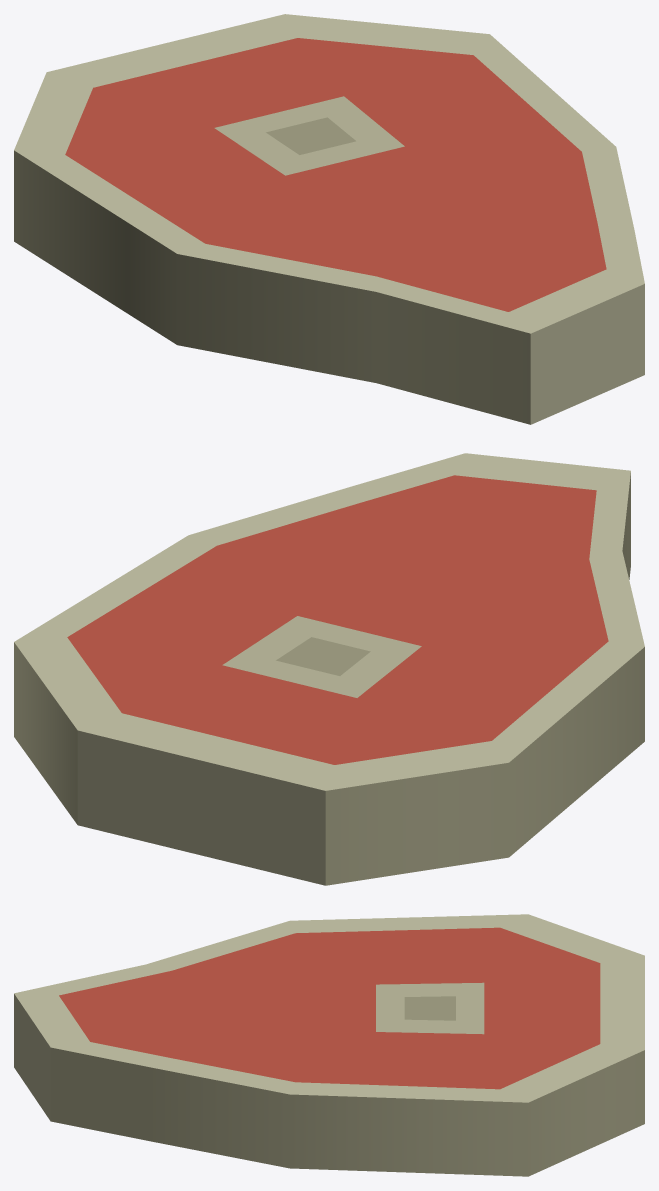
The model's file is SM_Prop_Steak_01.fbx.
3 renders of one model, top to bottom at view 1: azimuth 30°, elevation 25°; view 2: azimuth 150°, elevation 25°; view 3: azimuth 270°, elevation 25°, orthographic. The views are drawn at different scales.
Parts seen in each view (by area): view 1: SM_Prop_Steak_01; view 2: SM_Prop_Steak_01; view 3: SM_Prop_Steak_01.
Boxes of the visible parts, bbox=[...] form: SM_Prop_Steak_01: bbox=[14, 14, 644, 424]; SM_Prop_Steak_01: bbox=[14, 453, 644, 885]; SM_Prop_Steak_01: bbox=[14, 914, 644, 1176].
Size of the model in its own units: 4.67 by 0.8559 by 6.62.
